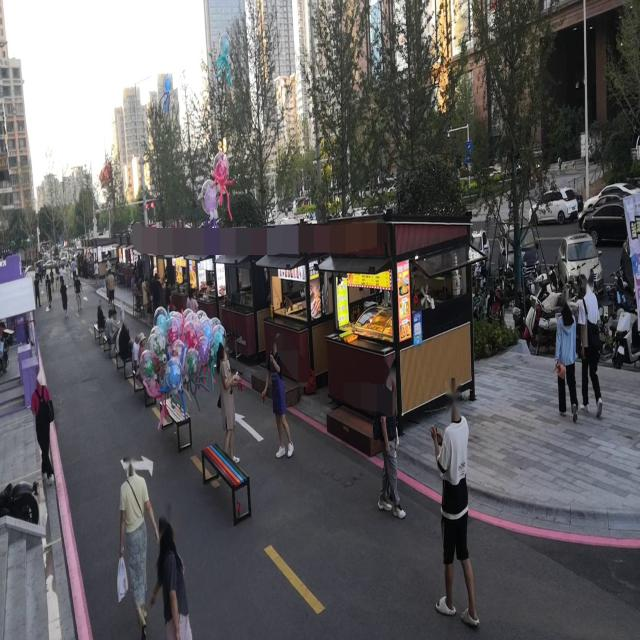fixed_stall: (329, 215, 394, 346), (265, 224, 307, 321), (222, 228, 252, 308), (192, 228, 216, 298), (170, 230, 188, 291), (152, 231, 168, 284), (138, 232, 150, 279)
sunshade: (0, 274, 35, 320)
